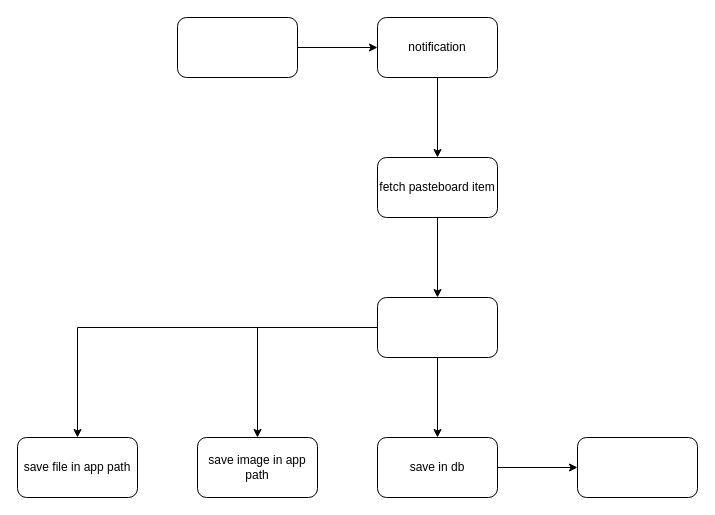
Some shapes in this 715 by 515 pixel diagram are drawn without their labels. The shapes that lost their labels are listed below. From the top down, each one's centre as x and y in pixels, then its label:
At (x=237, y=47): "native pasteboard".
At (x=437, y=327): "create ClipItem<T>".
At (x=637, y=467): "read from db".
